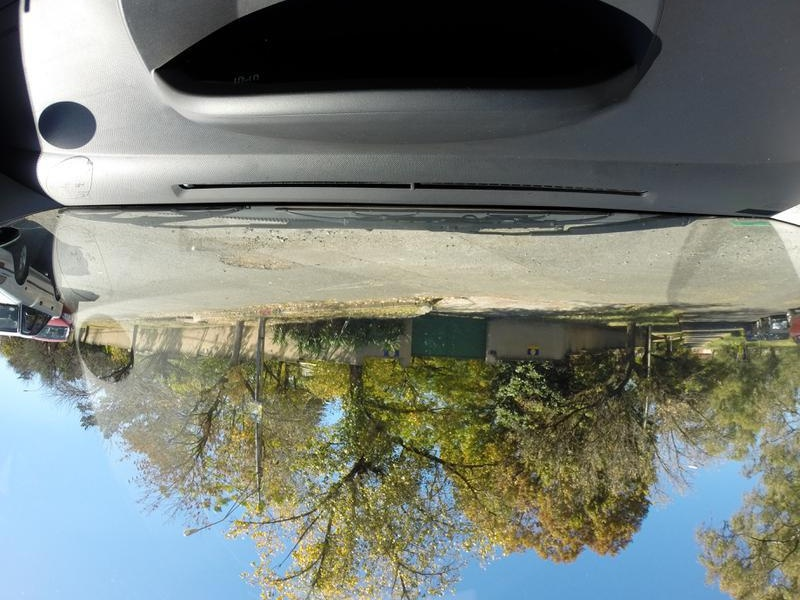pothole: (213, 249, 311, 272), (185, 231, 281, 254)
